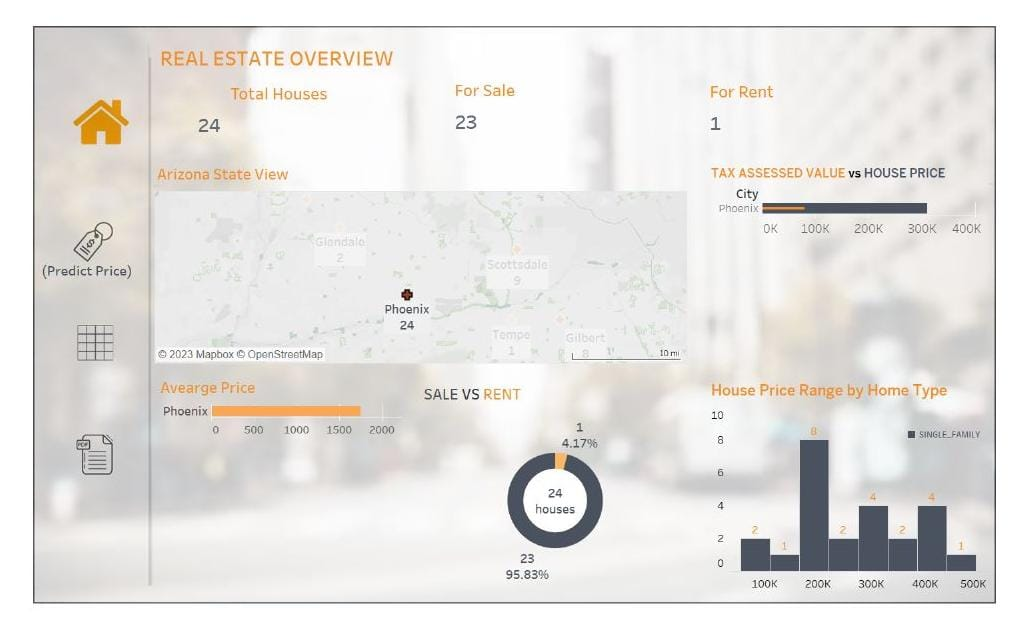

This screenshot's page, from the dashboard's own definition file:
{"tool":"tableau","page":{"name":"REAL ESTATE OVERVIEW","canvas":[1500,900],"ordinal":1},"visuals":[{"type":"image","param":"C:/Users/USER/Documents/ZHP/dashboard.png","box":[8,8,1484,884]},{"type":"text","box":[227,13,701,57]},{"type":"worksheet","title":"overview1","mark":"Automatic","box":[231,105,264,118]},{"type":"worksheet","title":"overview 2","mark":"Automatic","box":[632,108,307,122]},{"type":"worksheet","title":"overview 3","mark":"Automatic","box":[1034,108,332,143]},{"type":"worksheet","title":"Bar in bar","mark":"Automatic","rows":["city"],"box":[1033,211,435,305]},{"type":"worksheet","title":"Map","mark":"Shape","box":[218,213,797,303]},{"type":"worksheet","title":"Predicted Price Parameters","mark":"Automatic","box":[187,267,490,79]},{"type":"dashboard-object","box":[83,308,84,79]},{"type":"text","box":[187,346,490,33]},{"type":"parameter","param":"[Parameters].[Parameter 1]","box":[187,379,490,60]},{"type":"text","box":[55,385,144,30]},{"type":"parameter","param":"[Parameters].[Parameter 3]","box":[187,439,490,60]},{"type":"dashboard-object","box":[77,458,114,94]},{"type":"parameter","param":"[Parameters].[Test Bathrooms (copy)_3160682558038994951]","box":[187,499,490,83]},{"type":"worksheet","title":"Bar graph","mark":"Bar","rows":["city"],"cols":["price_per_sqft"],"box":[221,526,394,335]},{"type":"worksheet","title":"Donut Chart","mark":"Pie","rows":["Calculation_3160682557911240707","Calculation_3160682557911289861"],"box":[628,528,388,324]},{"type":"worksheet","title":"Histogram","mark":"Automatic","rows":["taxAssessedValue"],"cols":["Tax Assessed Value (bin)"],"box":[1038,531,455,329]},{"type":"parameter","param":"[Parameters].[Parameter 4]","box":[187,582,490,83]},{"type":"dashboard-object","box":[71,612,126,115]},{"type":"dashboard-object","box":[45,613,91,92]},{"type":"legend","title":"Histogram","param":"[federated.0l6pls20bws94s1bhkdpa1ribdjo].[none:homeType:nk]","box":[1319,619,143,49]}]}

Visuals, with their boxes in screenshot pixels (x1, y1, x2, y2), scaled from the page's 1500x900 canvas onto the 1027x628 screenshot:
image: (x1=5, y1=6, x2=1022, y2=622)
text: (x1=155, y1=9, x2=635, y2=49)
"overview1" worksheet: (x1=158, y1=73, x2=339, y2=156)
"overview 2" worksheet: (x1=433, y1=75, x2=643, y2=160)
"overview 3" worksheet: (x1=708, y1=75, x2=935, y2=175)
"Bar in bar" worksheet: (x1=707, y1=147, x2=1005, y2=360)
"Map" worksheet (Shape marks): (x1=149, y1=149, x2=695, y2=360)
"Predicted Price Parameters" worksheet: (x1=128, y1=186, x2=464, y2=241)
dashboard-object: (x1=57, y1=215, x2=114, y2=270)
text: (x1=128, y1=241, x2=464, y2=264)
parameter: (x1=128, y1=264, x2=464, y2=306)
text: (x1=38, y1=269, x2=136, y2=290)
parameter: (x1=128, y1=306, x2=464, y2=348)
dashboard-object: (x1=53, y1=320, x2=131, y2=385)
parameter: (x1=128, y1=348, x2=464, y2=406)
"Bar graph" worksheet (Bar marks): (x1=151, y1=367, x2=421, y2=601)
"Donut Chart" worksheet (Pie marks): (x1=430, y1=368, x2=696, y2=595)
"Histogram" worksheet: (x1=711, y1=371, x2=1022, y2=600)
parameter: (x1=128, y1=406, x2=464, y2=464)
dashboard-object: (x1=49, y1=427, x2=135, y2=507)
dashboard-object: (x1=31, y1=428, x2=93, y2=492)
"Histogram" legend: (x1=903, y1=432, x2=1001, y2=466)
